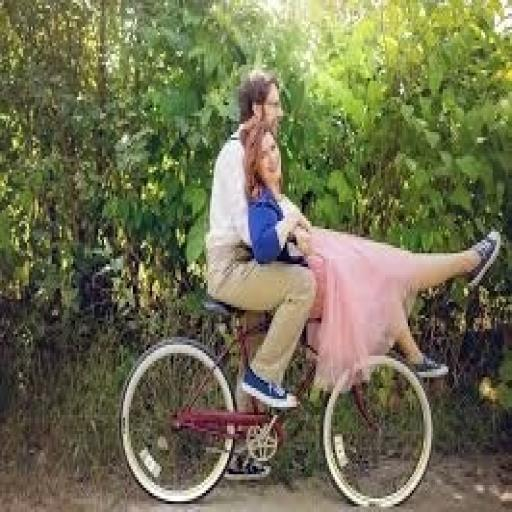cycling: (172, 65, 354, 375)
